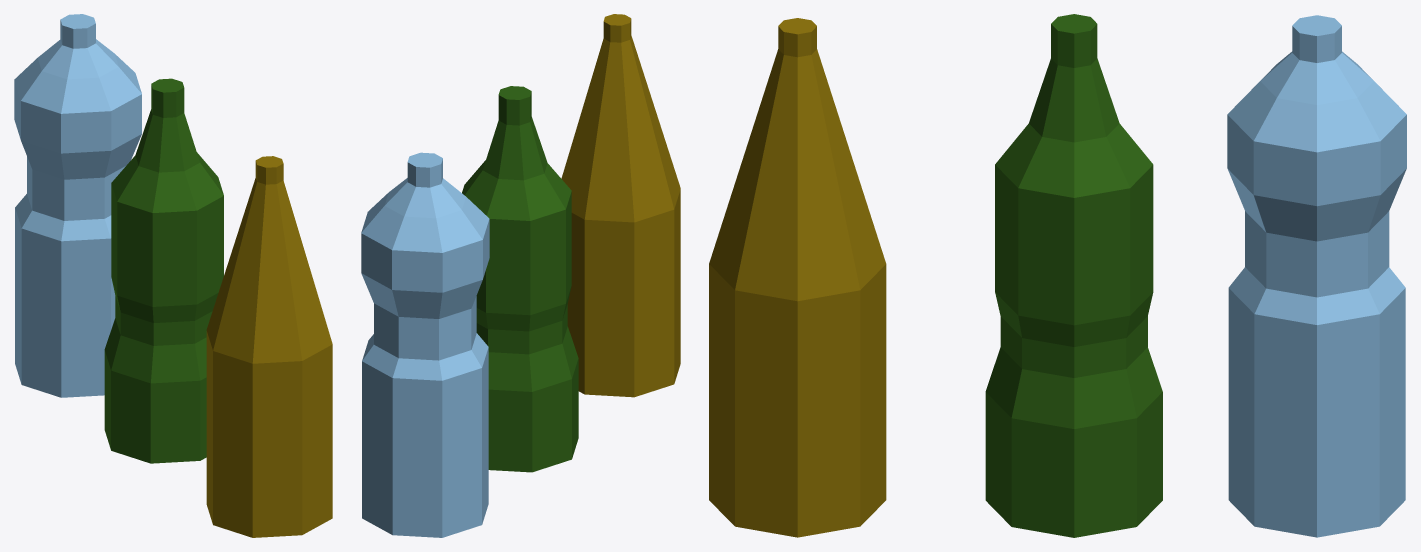
File: bottles.fbx
3 renders of one model, left to right at view 1: azimuth 30°, elevation 25°; view 2: azimuth 150°, elevation 25°; view 3: azimuth 270°, elevation 25°, orthographic. The views are drawn at different scales.
Parts seen in each view (by area): view 1: Bottle yellow, Bottle blue, Bottle Green; view 2: Bottle blue, Bottle yellow, Bottle Green; view 3: Bottle blue, Bottle Green, Bottle yellow.
Boxes of the visible parts, x1,y1,x2,y2 form: Bottle yellow: (206,156,332,537); Bottle blue: (14,14,141,397); Bottle Green: (104,78,223,463); Bottle blue: (361,152,489,537); Bottle yellow: (561,14,680,397); Bottle Green: (462,86,578,472); Bottle blue: (1227,15,1406,537); Bottle Green: (985,14,1162,537); Bottle yellow: (709,18,886,537).
Size of the model in its own units: 203 by 593 by 787.
